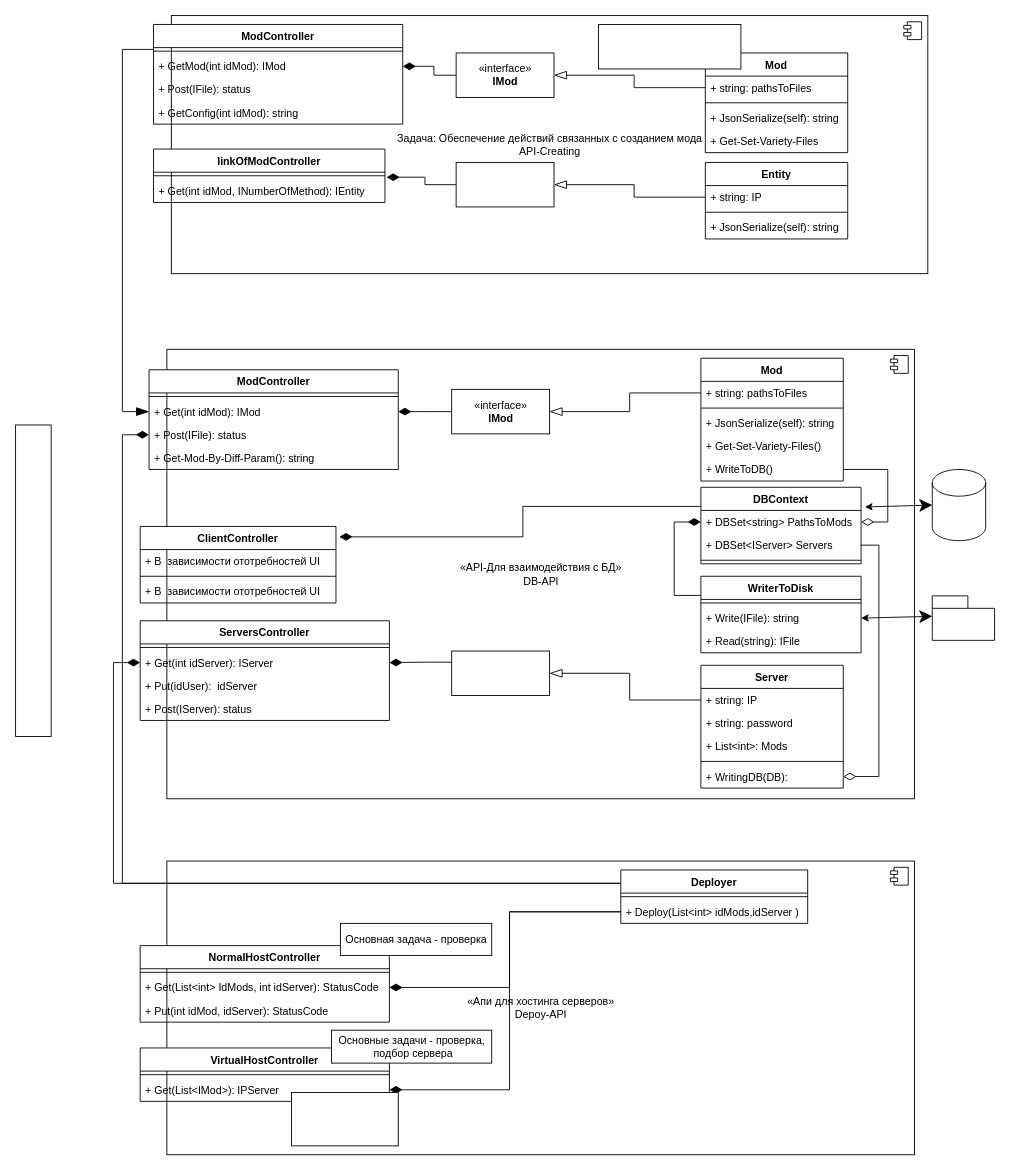
The diagram is 1010 pixels wide and 1170 high, and some of its shapes have lost their labels. Each missing label, with the centre of its shape:
"DB" goes at point 958,505.
"Disk" goes at point 963,617.
"UI" goes at point 33,580.
"«interface» IEntity" goes at point 504,184.
"«interface» IServer" goes at point 500,673.
"Ну вот он временно виртуально хостит, а дальше?" goes at point 344,1119.
"Что с файлами делать? Моя идея: расспростронять папочкой" goes at point 669,46.
